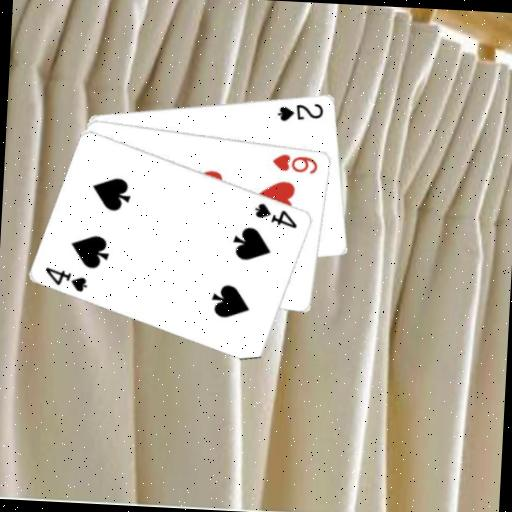2S: (274, 98, 326, 125)
4S: (251, 199, 300, 230), (41, 264, 90, 294)
6H: (270, 150, 321, 176)
